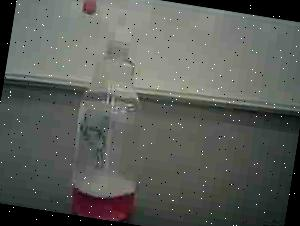hazard: (40, 0, 189, 226)
